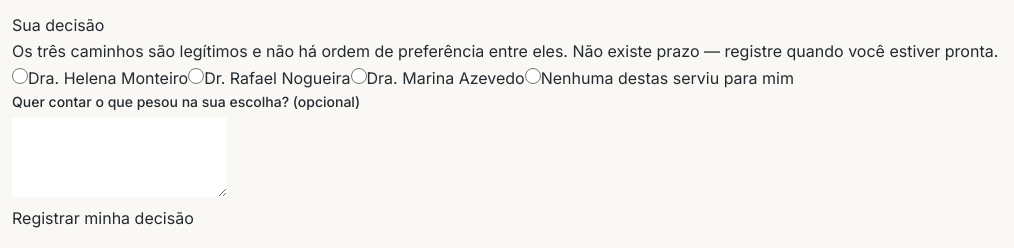
Test case: B3-UI · a decisão da paciente › B3-UI-7 · o erro não finge sucesso › não vaza SQL, RLS, constraint ou código interno
What coordinates should you click on to do the following:
click the radio button labelled "Dra. Helena Monteiro"
I would click on:
 (20, 76)
Its box is [12,68,28,84].
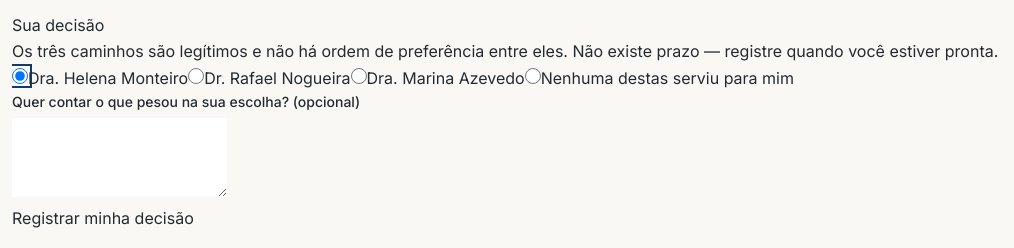
What coordinates should you click on to do the following:
click the button "Registrar minha decisão"
I would click on:
 (103, 218)
Its box is [12,205,194,231].
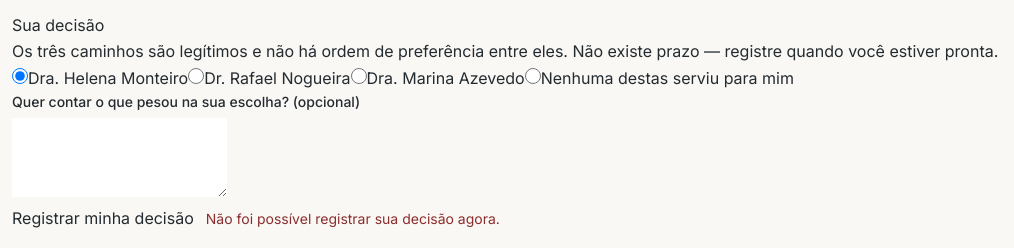
Expected: the message "Não foi possível registrar sua decisão agora." is shown, [206,208,500,228]
